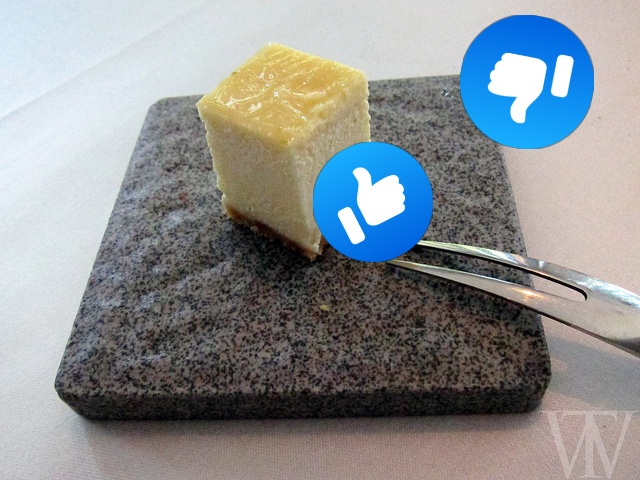like: (460, 15, 594, 149), (313, 142, 433, 262)
